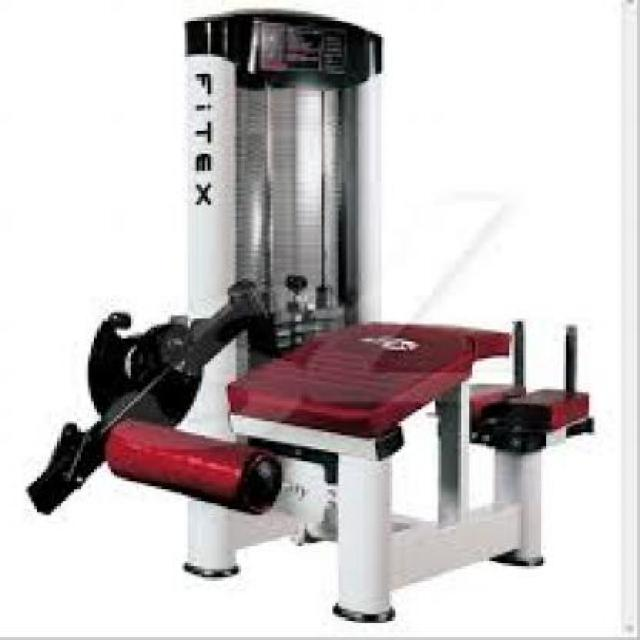reg curl machine: (24, 9, 594, 622)
